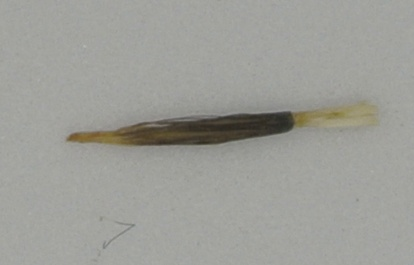เมล้ดปลายพู่กัน: (64, 101, 382, 153)
